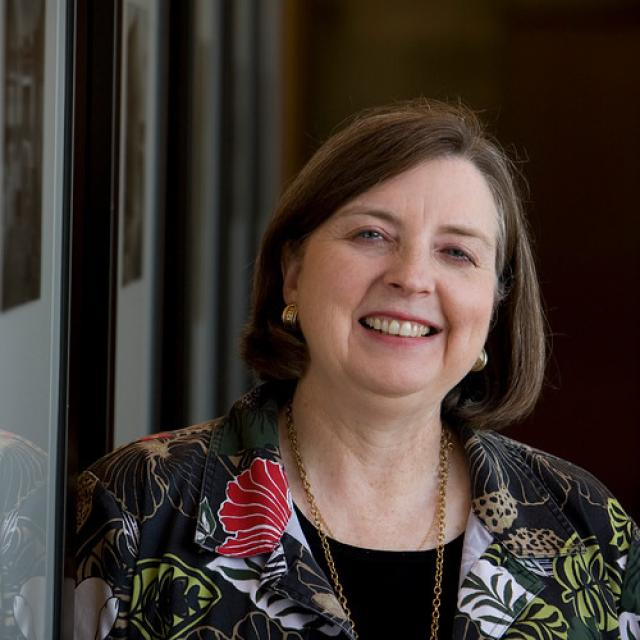human: (69, 93, 640, 640)
